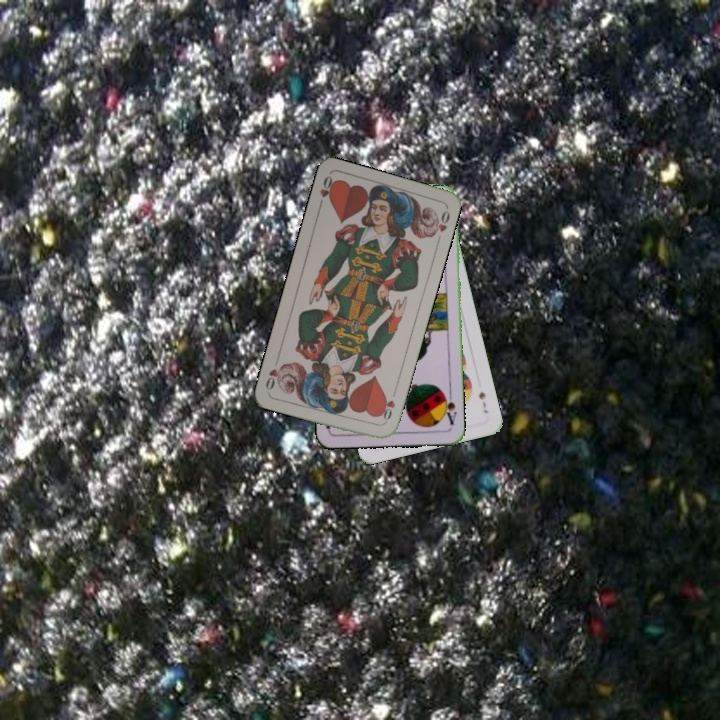HO: (314, 171, 338, 211), (376, 386, 399, 426)
S7: (475, 387, 490, 416)
SA: (439, 389, 459, 427)
